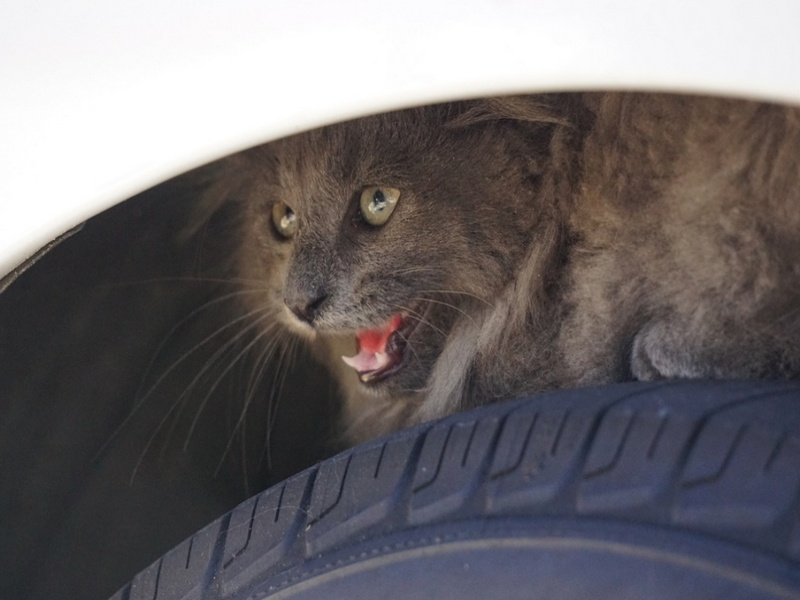cat: (257, 96, 783, 412)
